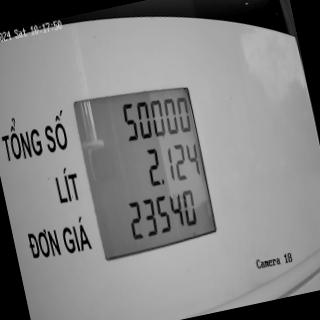screen: (68, 70, 222, 262)
